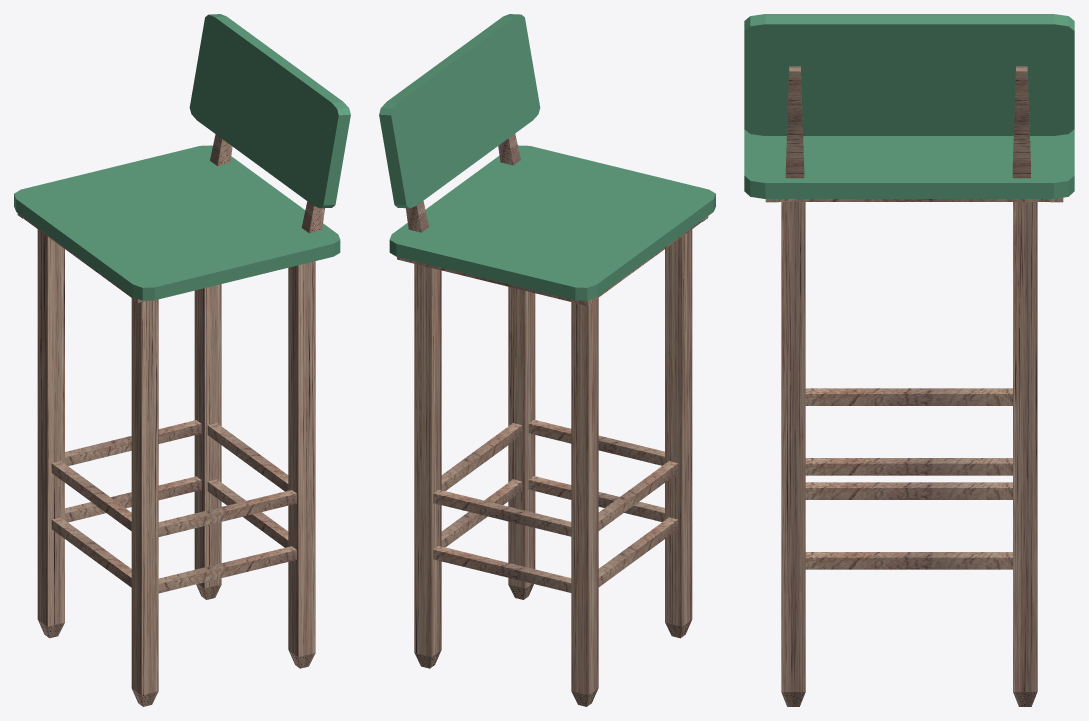
Rendered from BarStool.fbx.
3 views of the same model, side by side, from view 1: azimuth 30°, elevation 25°; view 2: azimuth 150°, elevation 25°; view 3: azimuth 270°, elevation 25° (orthographic). The views are drawn at different scales.
Parts seen in each view (by area): view 1: BarStool; view 2: BarStool; view 3: BarStool.
Part boxes in pixels (bbox=[...]): BarStool: bbox=[14, 14, 350, 706]; BarStool: bbox=[379, 14, 715, 706]; BarStool: bbox=[744, 14, 1074, 706].
Bounding box in the file's own units: 25.31 × 64.7 × 27.65.
Materials: 2 (1 with a texture image).
